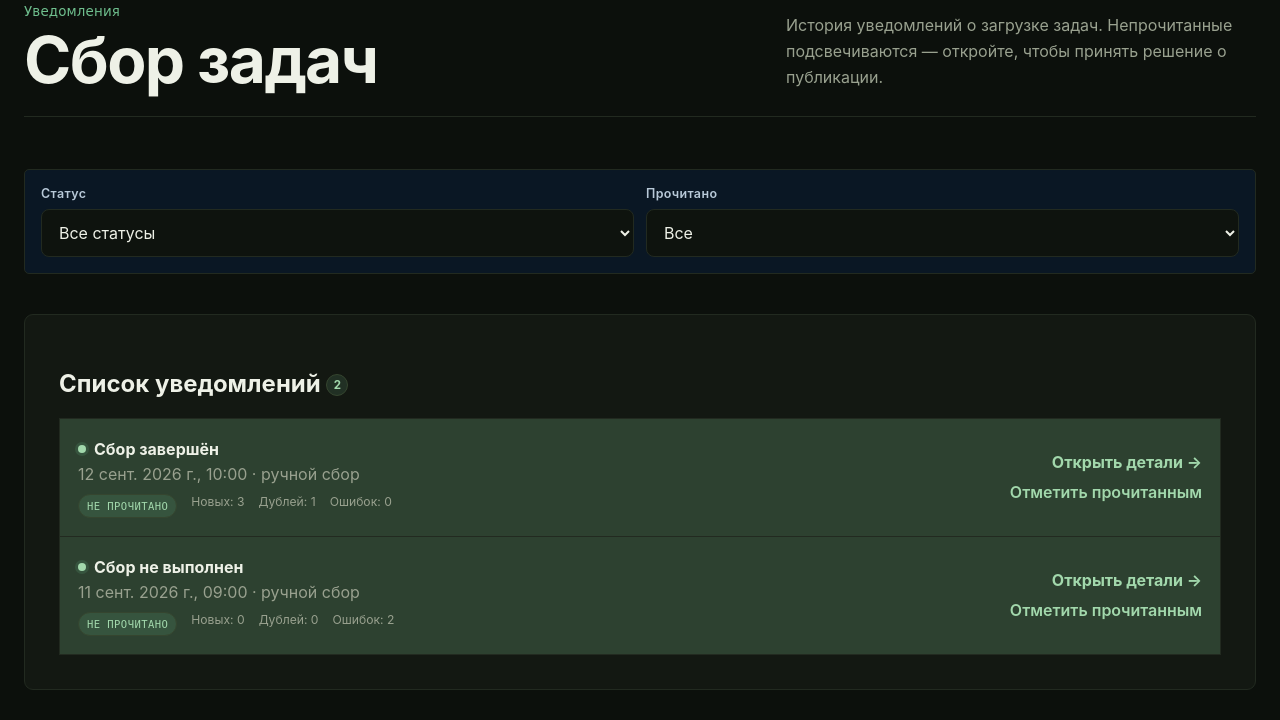
Test case: NotificationsPage › фильтр по статусу отсекает остальные уведомления
Select "Сбор не выполнен" in the dropdown labelled "Статус" at (338, 233), box [41,209,634,257]
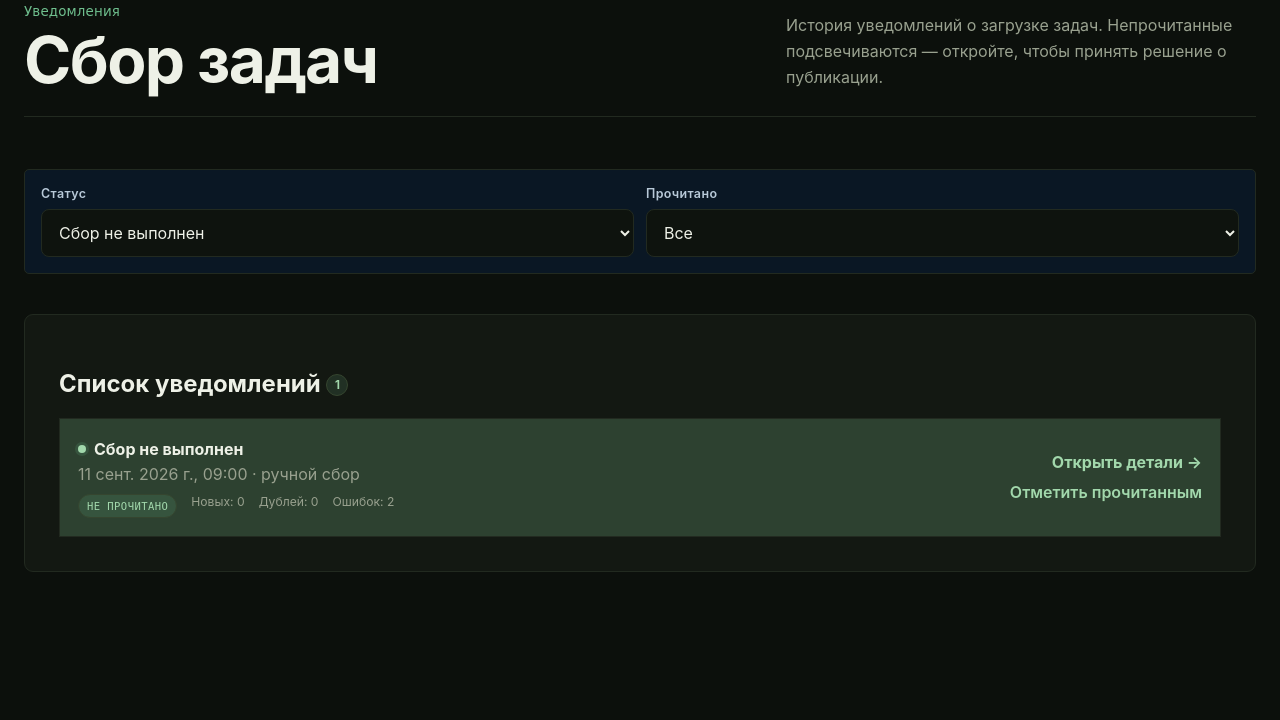
Expected: the text "Сбор не выполнен" is shown, [78,439,243,459]
Result: the text "Сбор завершён" is gone
